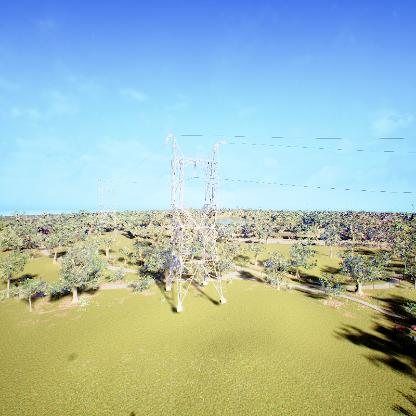tower: (160, 129, 232, 313)
